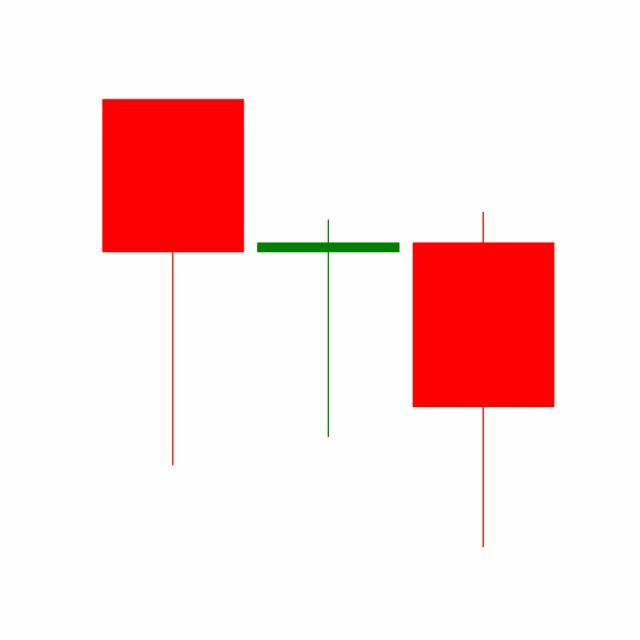Spinning Top: (250, 217, 407, 440)
